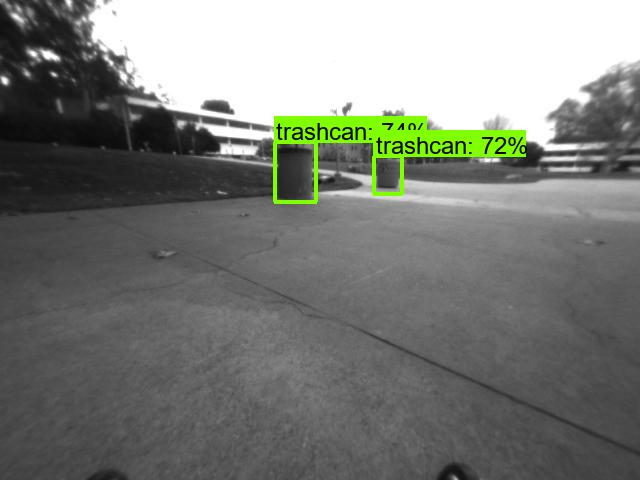trashcan: (275, 147, 316, 201), (376, 156, 398, 195)
